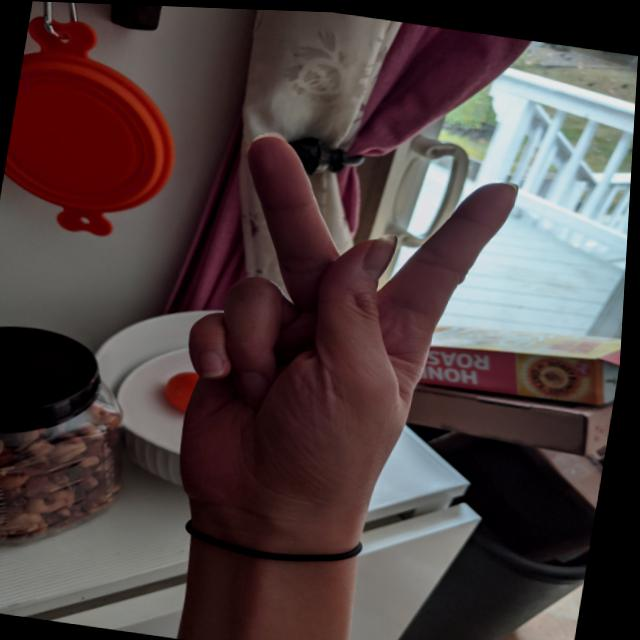K: (154, 117, 533, 553)
